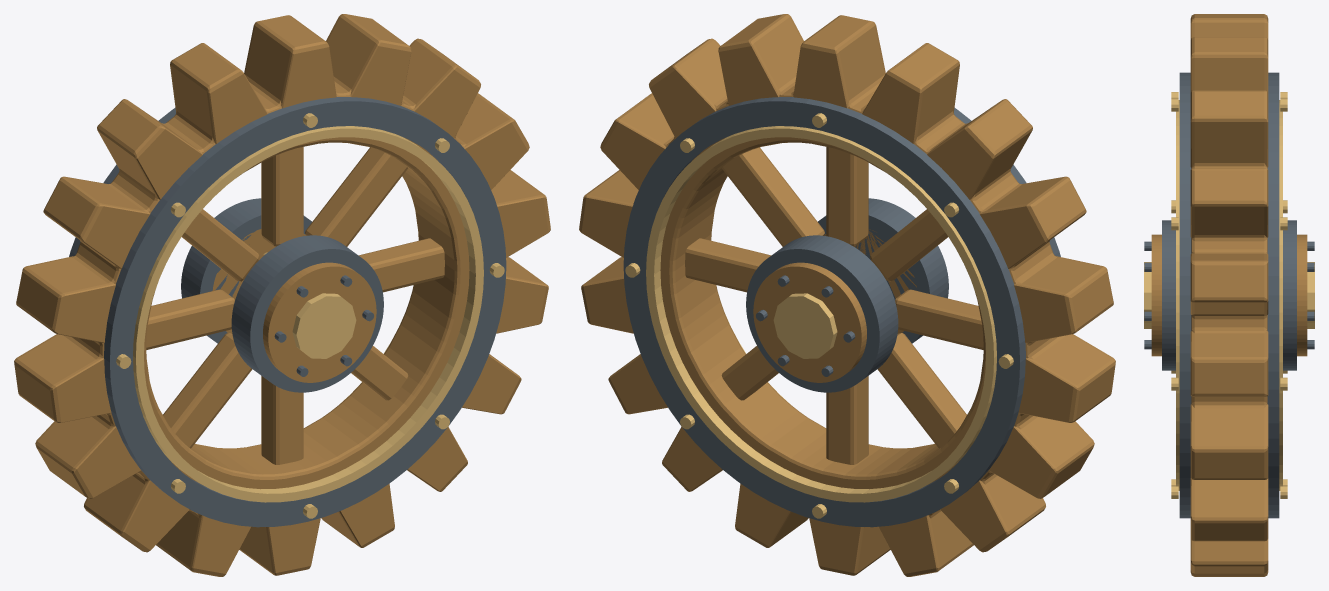
The model's file is Gear_Refined_High.fbx.
The picture shows the model from 3 angles, left to right: view 1: azimuth 30°, elevation 25°; view 2: azimuth 150°, elevation 25°; view 3: azimuth 270°, elevation 25°; orthographic projection. The views are drawn at different scales.
Visible parts, largest first — view 1: Gear_Refined_High; view 2: Gear_Refined_High; view 3: Gear_Refined_High.
Boxes of the visible parts, <box> form: Gear_Refined_High: <box>14,14,550,576</box>; Gear_Refined_High: <box>579,14,1115,576</box>; Gear_Refined_High: <box>1144,14,1314,576</box>.
Size of the model in its own units: 217 by 66 by 218.
